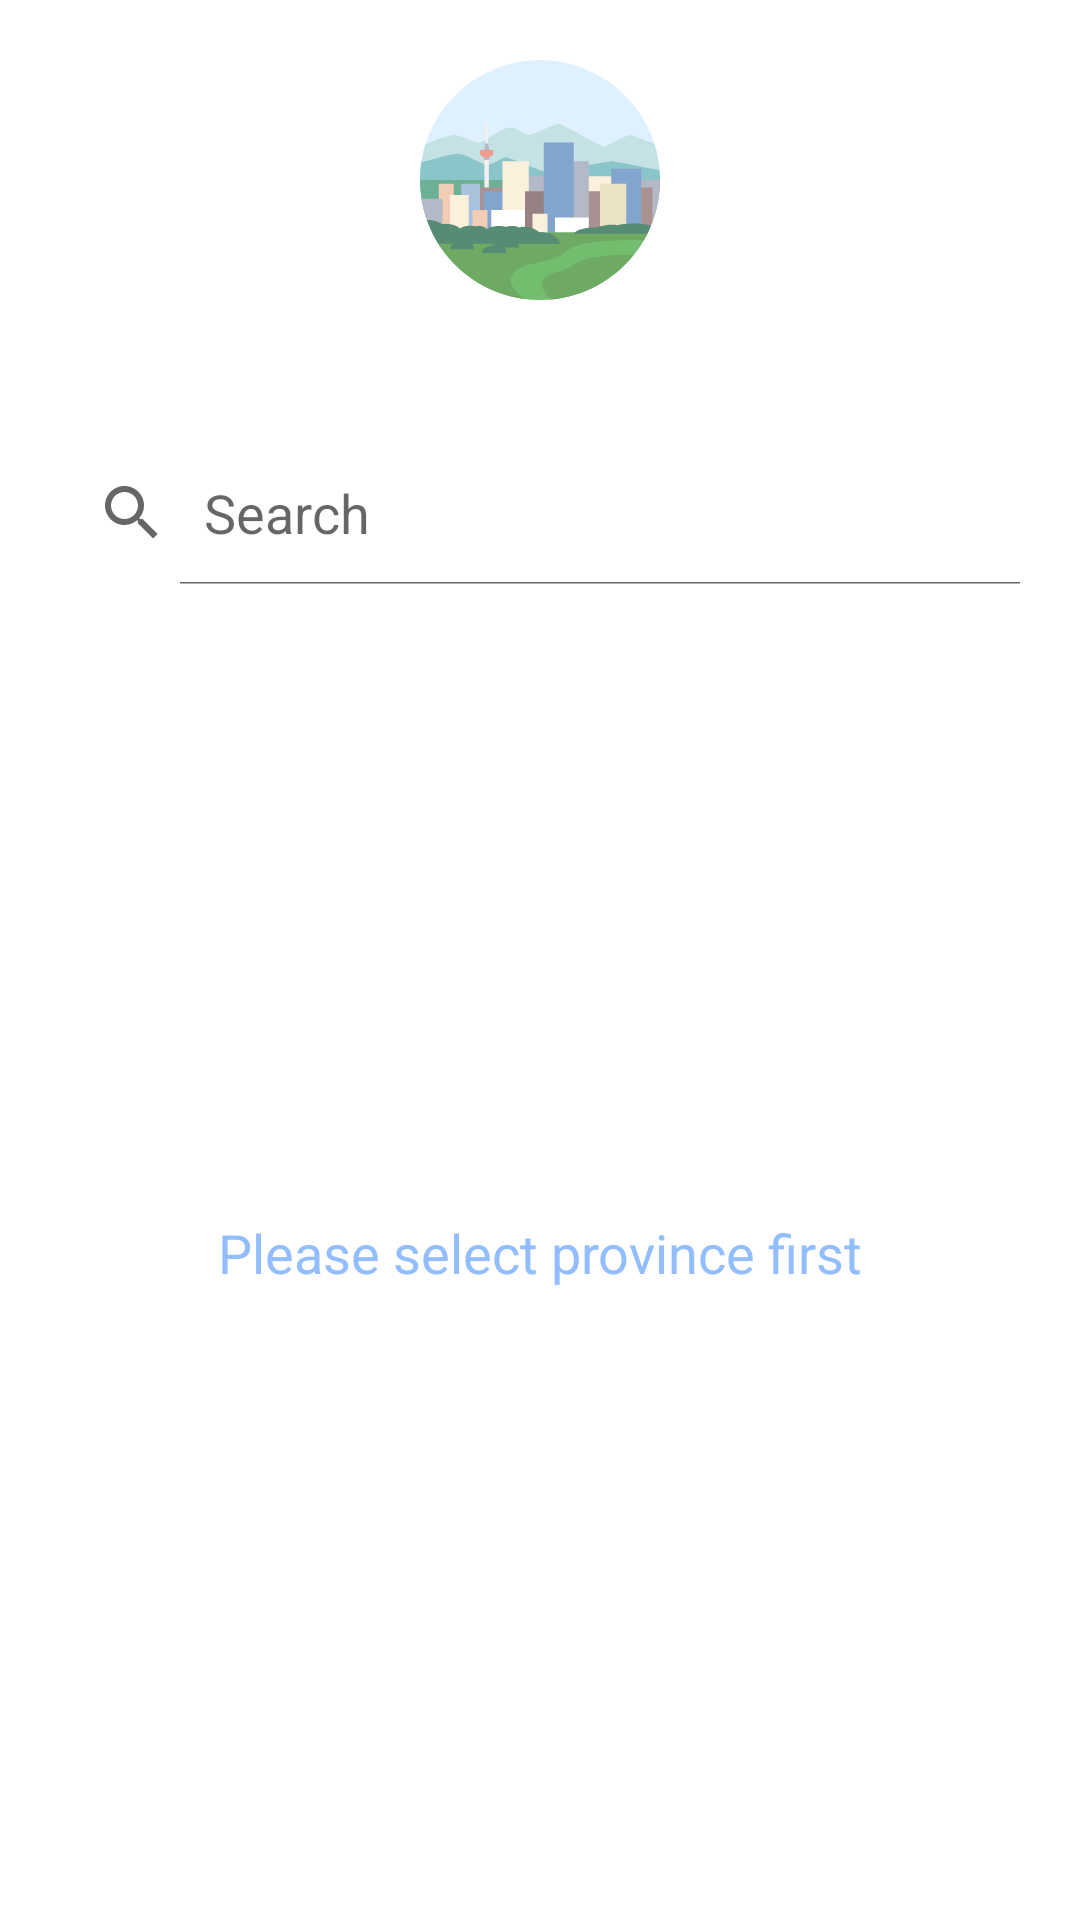

Named icons in this screenshot (1080px×1920px) and their bounding boxes, (x1, y1, x2, y2):
ilus city: (420, 60, 660, 300)
